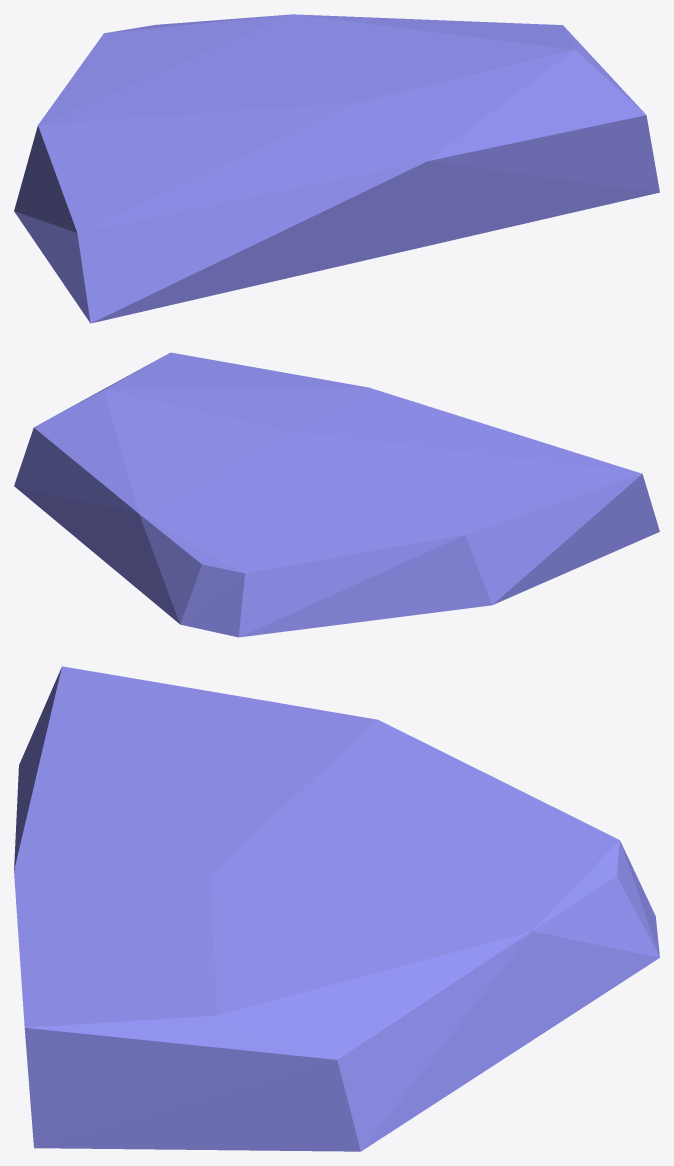
The model's file is Plate_14_Collider_01.FBX.
3 renders of one model, top to bottom at view 1: azimuth 30°, elevation 25°; view 2: azimuth 150°, elevation 25°; view 3: azimuth 270°, elevation 25°, orthographic. The views are drawn at different scales.
Parts seen in each view (by area): view 1: COLLIDER1; view 2: COLLIDER1; view 3: COLLIDER1.
Part boxes in pixels (x1,y1,x2,y2): COLLIDER1: (14,14,659,323); COLLIDER1: (14,352,659,637); COLLIDER1: (14,666,659,1151).
Bounding box in the file's own units: 281 × 43.15 × 199.
